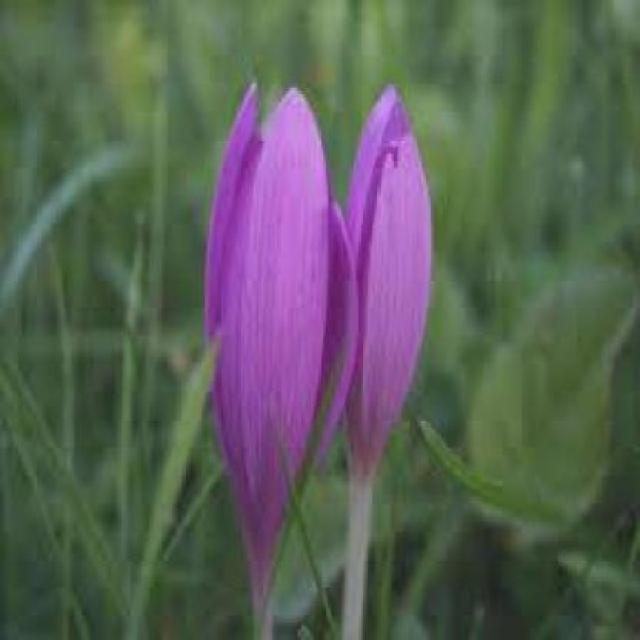saffron open: (206, 86, 330, 640), (325, 90, 431, 639)
